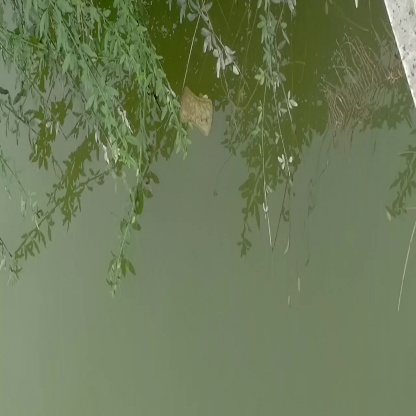plastic-bag: (178, 78, 220, 139)
